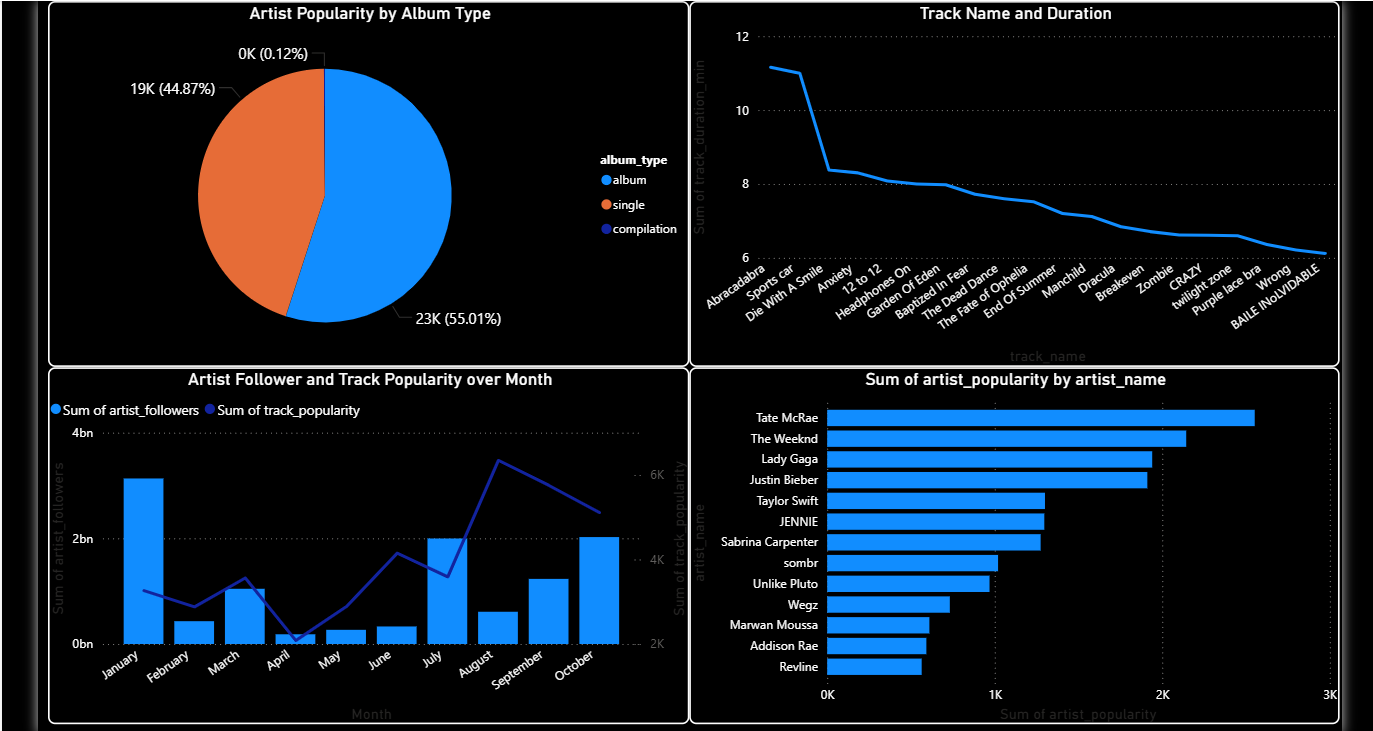

This screenshot's page, from the dashboard's own definition file:
{"tool":"powerbi","page":{"name":"Report 2","canvas":[1280,720],"ordinal":2},"visuals":[{"type":"pieChart","title":"Artist Popularity by Album Type","fields":{"Category":["spotify_data clean.album_type"],"Y":["Sum(spotify_data clean.artist_popularity)"]},"box":[10,0,629.4,359],"z":0},{"type":"lineClusteredColumnComboChart","title":"Artist Follower and Track Popularity over Month","fields":{"Category":["spotify_data clean.album_release_date.Variation.Date Hierarchy.Month","spotify_data clean.album_release_date.Variation.Date Hierarchy.Day"],"Y":["Sum(spotify_data clean.artist_followers)"],"Y2":["Sum(spotify_data clean.track_popularity)"]},"box":[10,359.5,629.4,350.8],"z":1000},{"type":"lineChart","title":"Track Name and Duration","fields":{"Category":["spotify_data clean.track_name"],"Y":["Sum(spotify_data clean.track_duration_min)"]},"box":[639.4,0,638.2,359.5],"z":2000},{"type":"clusteredBarChart","fields":{"Category":["spotify_data clean.artist_name"],"Y":["Sum(spotify_data clean.artist_popularity)"]},"box":[639.4,359.5,638.2,350.8],"z":3000}]}

Visuals, with their boxes on the page's 1280x720 design canvas (x1, y1, x2, y2). These are canvas units, not pixel positions in the 1373x731 screenshot, which may show the page scaled, cropped or inside an application window:
"Artist Popularity by Album Type" pieChart: 10 0 639 359
"Artist Follower and Track Popularity over Month" lineClusteredColumnComboChart: 10 360 639 710
"Track Name and Duration" lineChart: 639 0 1278 360
clusteredBarChart - spotify_data clean.artist_name x Sum(spotify_data clean.artist_popularity): 639 360 1278 710
